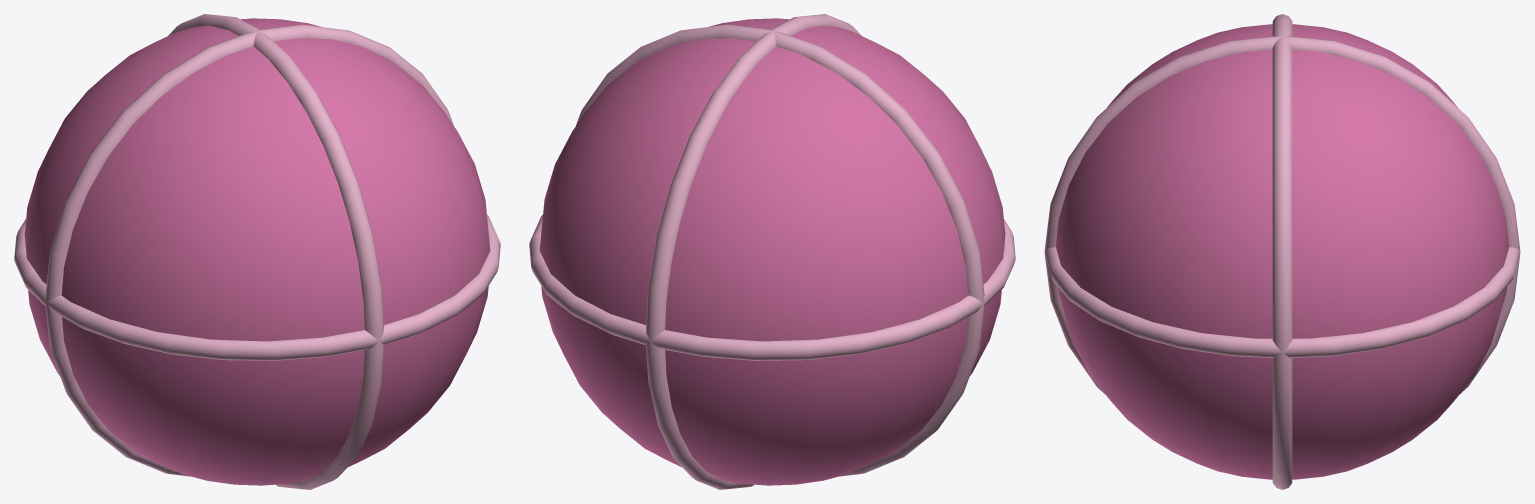
File: VM-ACC-EXT140.glb
3 renders of one model, left to right at view 1: azimuth 30°, elevation 25°; view 2: azimuth 150°, elevation 25°; view 3: azimuth 270°, elevation 25°, orthographic. The views are drawn at different scales.
Visible parts, largest first — view 1: Balón de Baloncesto; view 2: Balón de Baloncesto; view 3: Balón de Baloncesto.
Boxes of the visible parts, box(x1,y1,x2,y2) form: Balón de Baloncesto: box(14, 14, 500, 489); Balón de Baloncesto: box(529, 14, 1015, 489); Balón de Baloncesto: box(1044, 14, 1520, 489).
Bounding box in the file's own units: 0.2452 × 0.2452 × 0.2452.
